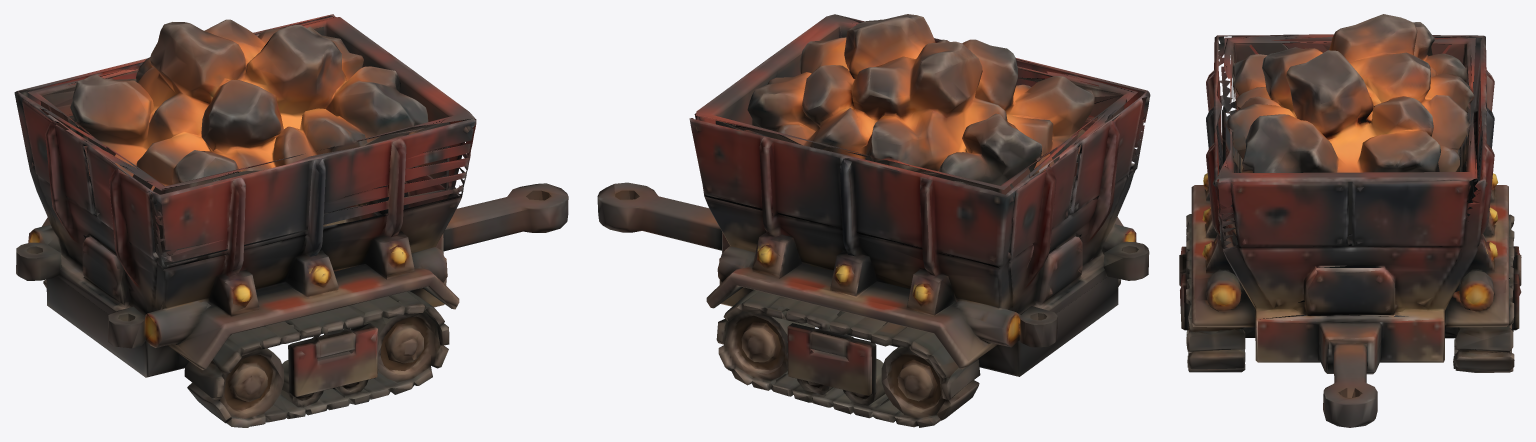
3 views of the same model, side by side, from view 1: azimuth 30°, elevation 25°; view 2: azimuth 150°, elevation 25°; view 3: azimuth 270°, elevation 25° (orthographic). The views are drawn at different scales.
Parts seen in each view (by area): view 1: repaired; view 2: repaired; view 3: repaired.
Part boxes in pixels (x1,y1,x2,y2): repaired: [14, 14, 568, 427]; repaired: [597, 14, 1150, 427]; repaired: [1179, 14, 1521, 427].
Size of the model in its own units: 0.999 by 0.6126 by 0.6339.
Materials: 1 (1 with a texture image).
